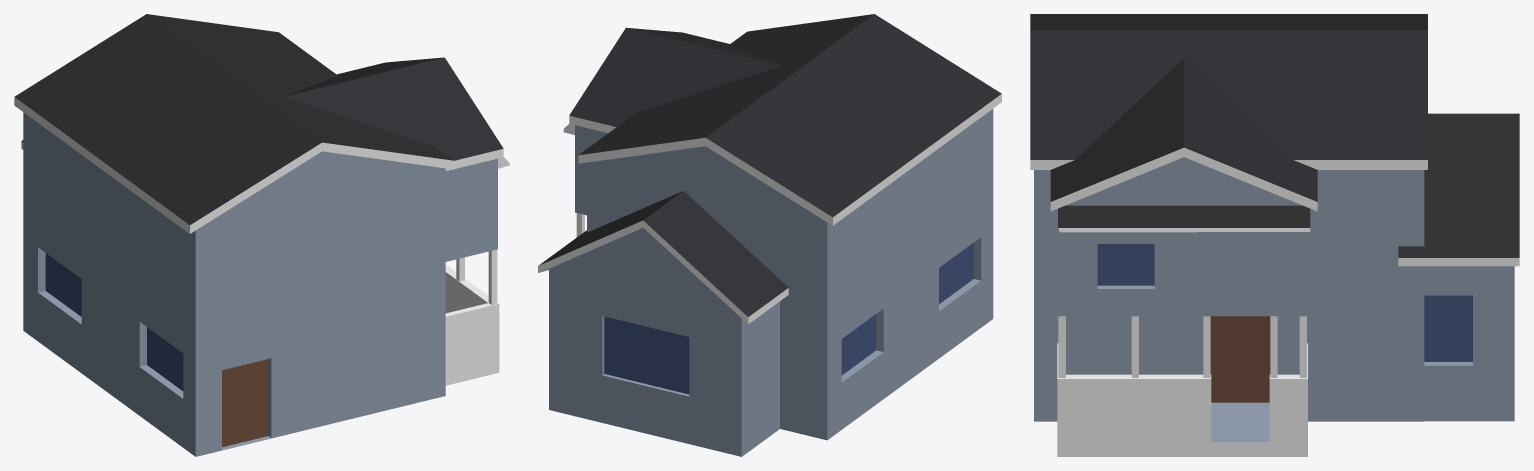
Rendered from house1.fbx.
3 renders of one model, left to right at view 1: azimuth 30°, elevation 25°; view 2: azimuth 150°, elevation 25°; view 3: azimuth 270°, elevation 25°, orthographic. The views are drawn at different scales.
Visible parts, largest first — view 1: Cube.024, Cube.021, Cube.023; view 2: Cube.024, Cube.031, Cube.021; view 3: Cube.024, Cube.021, Cube.031, Cube.023.
Part boxes in pixels (left/top/right/bottom): Cube.024: left=14, top=14, right=454, bottom=456; Cube.021: left=284, top=57, right=509, bottom=261; Cube.023: left=445, top=249, right=499, bottom=385; Cube.024: left=578, top=14, right=1001, bottom=440; Cube.031: left=538, top=191, right=788, bottom=456; Cube.021: left=563, top=27, right=780, bottom=215; Cube.024: left=1030, top=14, right=1427, bottom=421; Cube.021: left=1050, top=59, right=1317, bottom=316; Cube.031: left=1398, top=113, right=1519, bottom=421; Cube.023: left=1057, top=316, right=1307, bottom=456.
Bounding box in the file's own units: 1.66 × 1.36 × 1.87.
